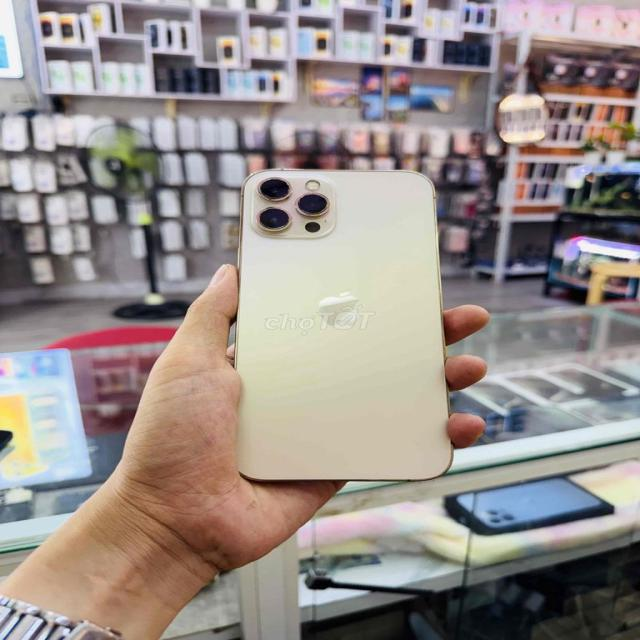gen_12_13: (230, 166, 457, 494)
